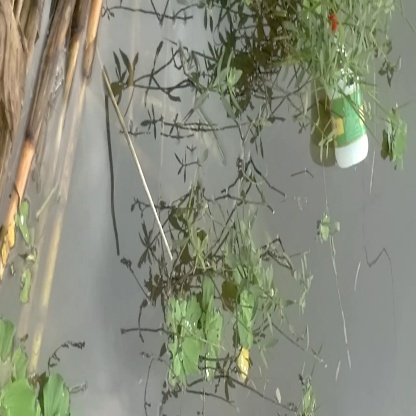bottle: (312, 7, 376, 172)
